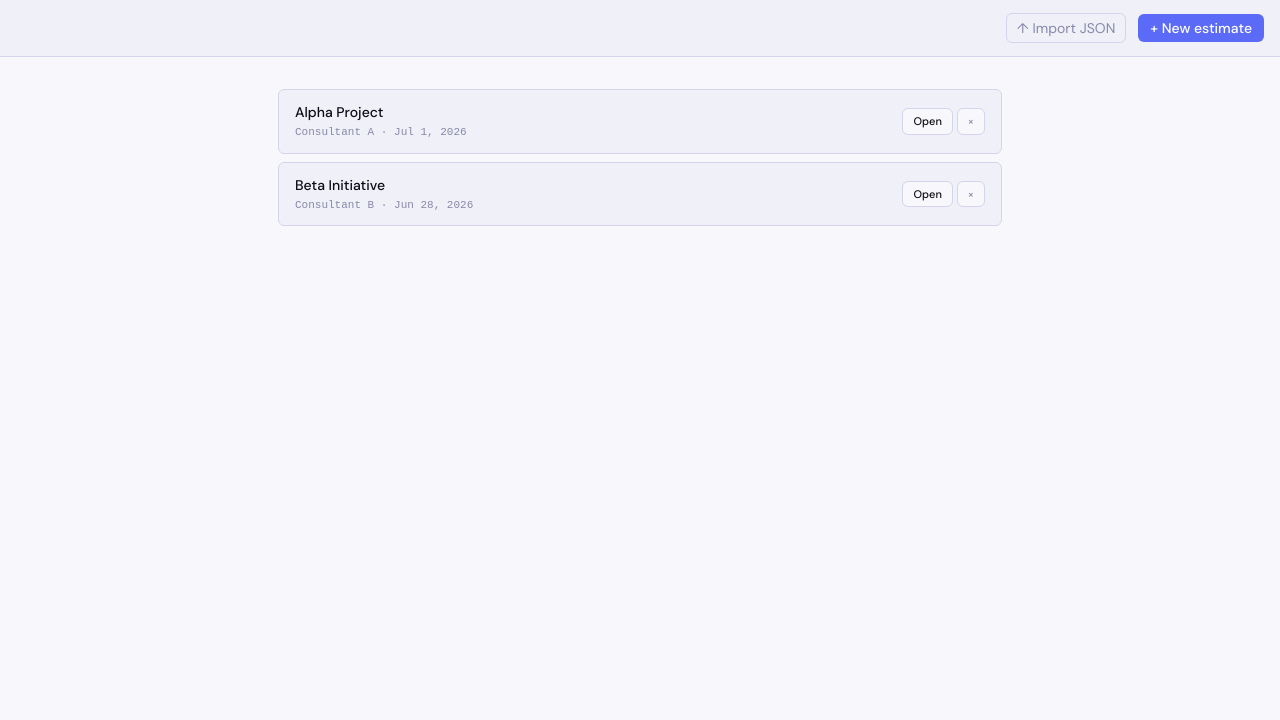
Test: ConfirmDeleteModal (T10, specs/001) › (D) a11y — default focus on Cancel › moves focus to Cancel (not Delete) when the modal opens
Expected: the text "Alpha Project" is shown, [295, 102, 383, 122]
Expected: the text "Beta Initiative" is shown, [295, 174, 385, 194]
// Open the modal for Alpha
Click the button named "Delete \"Alpha Project\"": x=971, y=121 [957, 108, 985, 134]
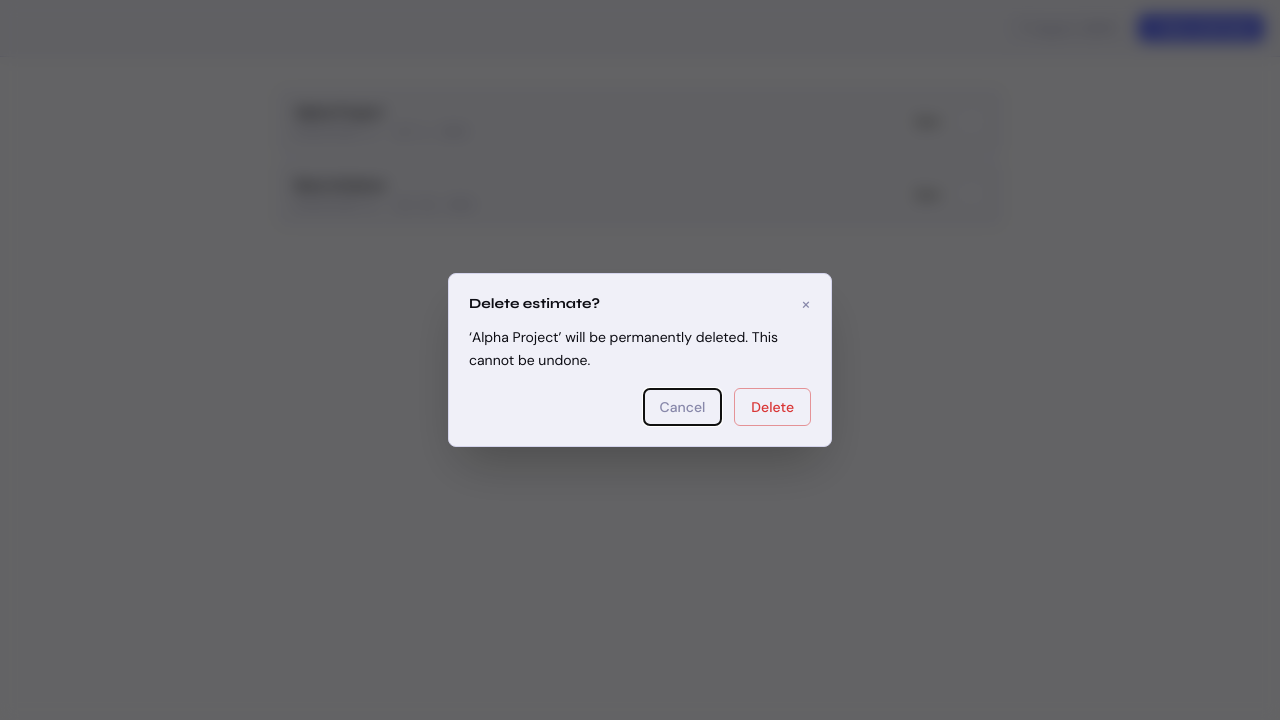
Expected: the element with test id "confirm-delete-modal" is shown
